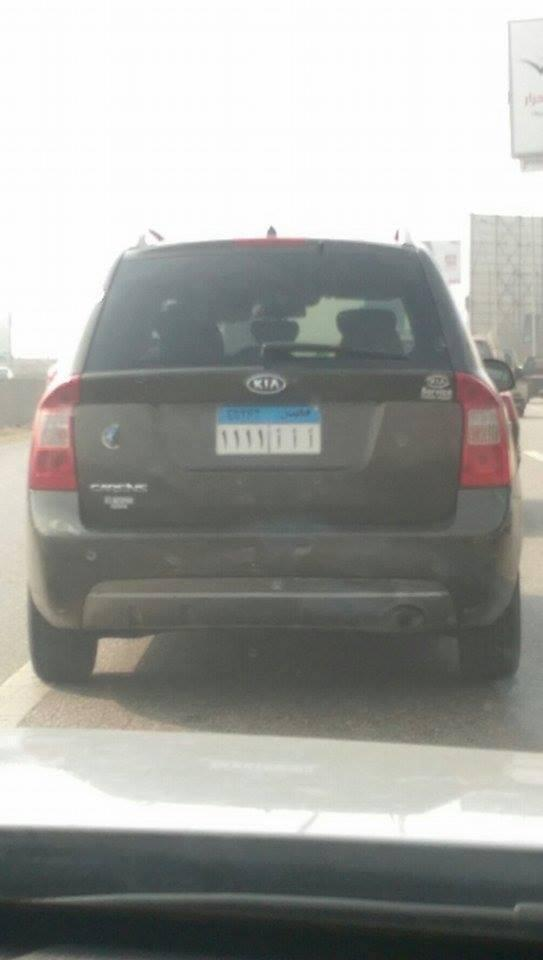1: (256, 428, 268, 451), (219, 427, 230, 452), (245, 427, 255, 451), (232, 428, 242, 451)
License Plate: (211, 402, 324, 457)
alef: (290, 425, 300, 450), (306, 426, 316, 449), (275, 426, 284, 451)
car: (20, 242, 534, 710)
